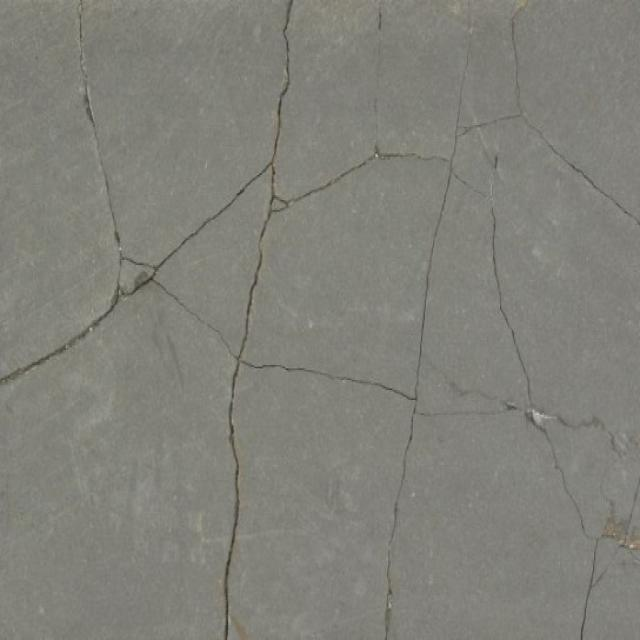Network: (416, 0, 640, 367), (214, 272, 406, 640), (576, 554, 610, 640)
Radial: (0, 1, 209, 382), (224, 0, 408, 266), (417, 370, 640, 552)
